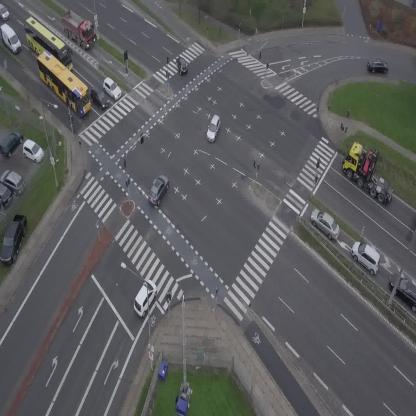bicycle: (68, 114, 75, 129)
bus: (28, 47, 100, 118), (14, 14, 82, 76)
car: (346, 237, 388, 277), (305, 205, 345, 242), (129, 277, 161, 318), (144, 173, 173, 208), (85, 85, 113, 112), (99, 75, 125, 101), (204, 113, 224, 143), (367, 58, 388, 74), (174, 55, 189, 76), (0, 3, 10, 20)
lorry: (335, 135, 399, 215), (54, 6, 103, 52), (0, 22, 25, 56)
